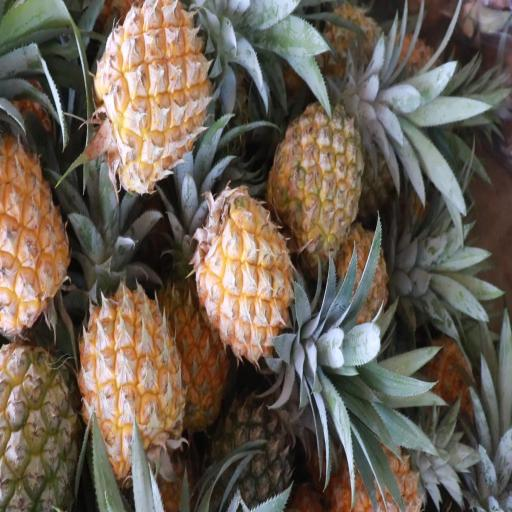------------------------------: (272, 98, 362, 264), (0, 338, 86, 510)
Pineapple - v8 v1: (95, 0, 212, 184), (84, 293, 182, 475), (200, 189, 298, 365), (0, 133, 74, 333), (164, 281, 230, 432), (330, 425, 436, 512)
